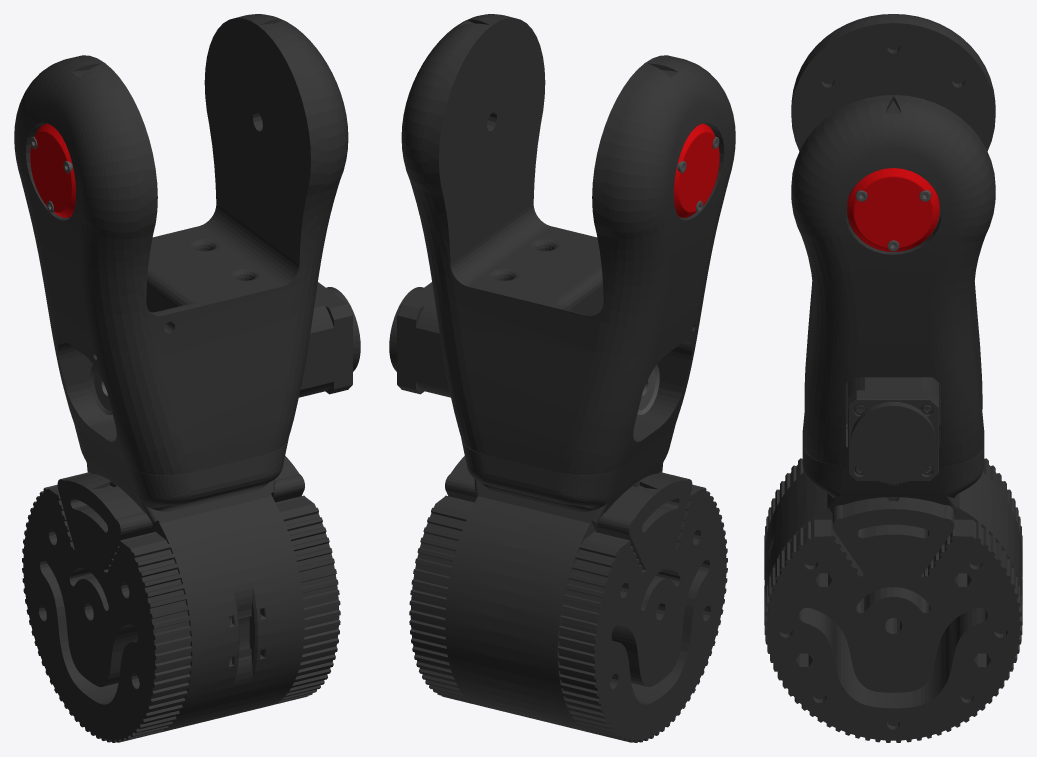
The picture shows the model from 3 angles, left to right: view 1: azimuth 30°, elevation 25°; view 2: azimuth 150°, elevation 25°; view 3: azimuth 270°, elevation 25°; orthographic projection. The views are drawn at different scales.
Parts seen in each view (by area): view 1: module_3.1; view 2: module_3.1; view 3: module_3.1.
Part boxes in pixels (bbox=[...]): module_3.1: bbox=[14, 14, 360, 742]; module_3.1: bbox=[389, 14, 735, 742]; module_3.1: bbox=[764, 14, 1022, 742].
Size of the model in its own units: 149 by 329 by 120.
